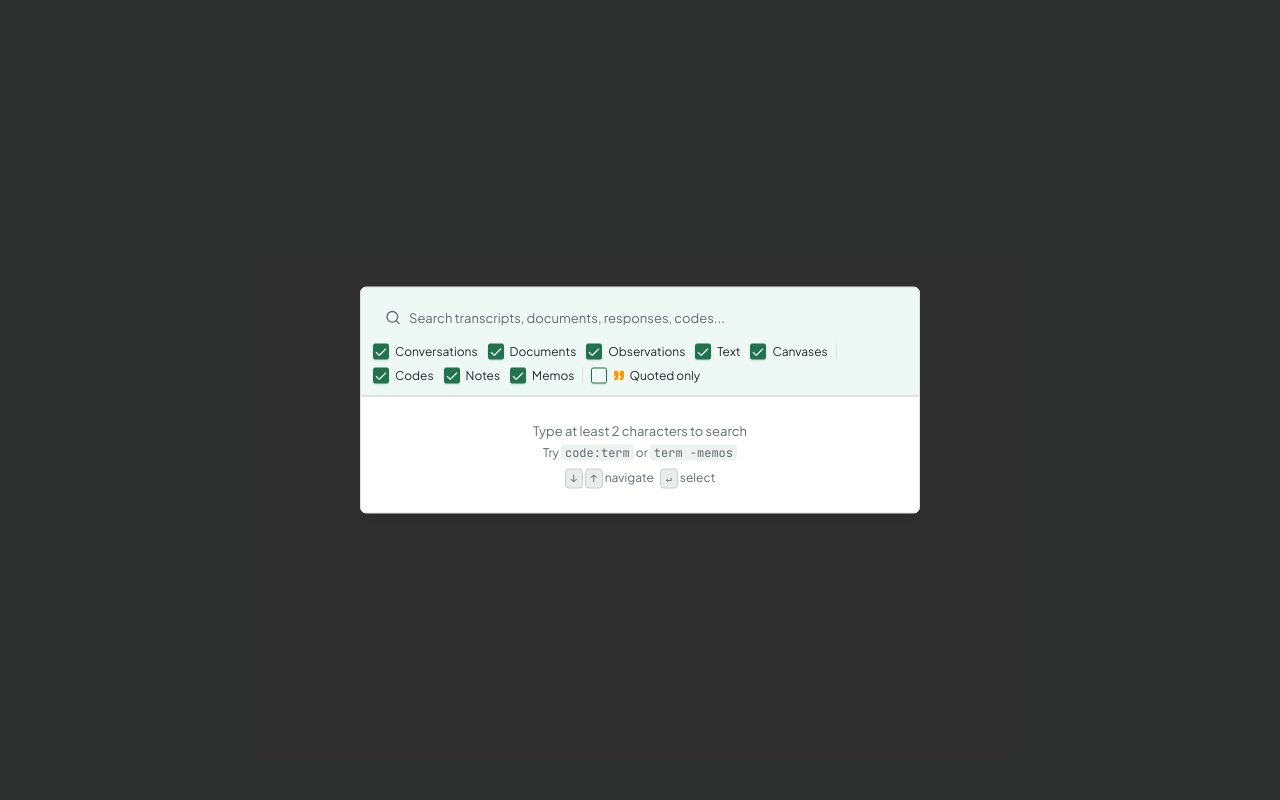
#963 Tier 3 — SearchPopover: a failed search is not an empty project › LOADING: says it is searching
In the dropdown: (640, 318) [373,300,907,336], type "pacing"
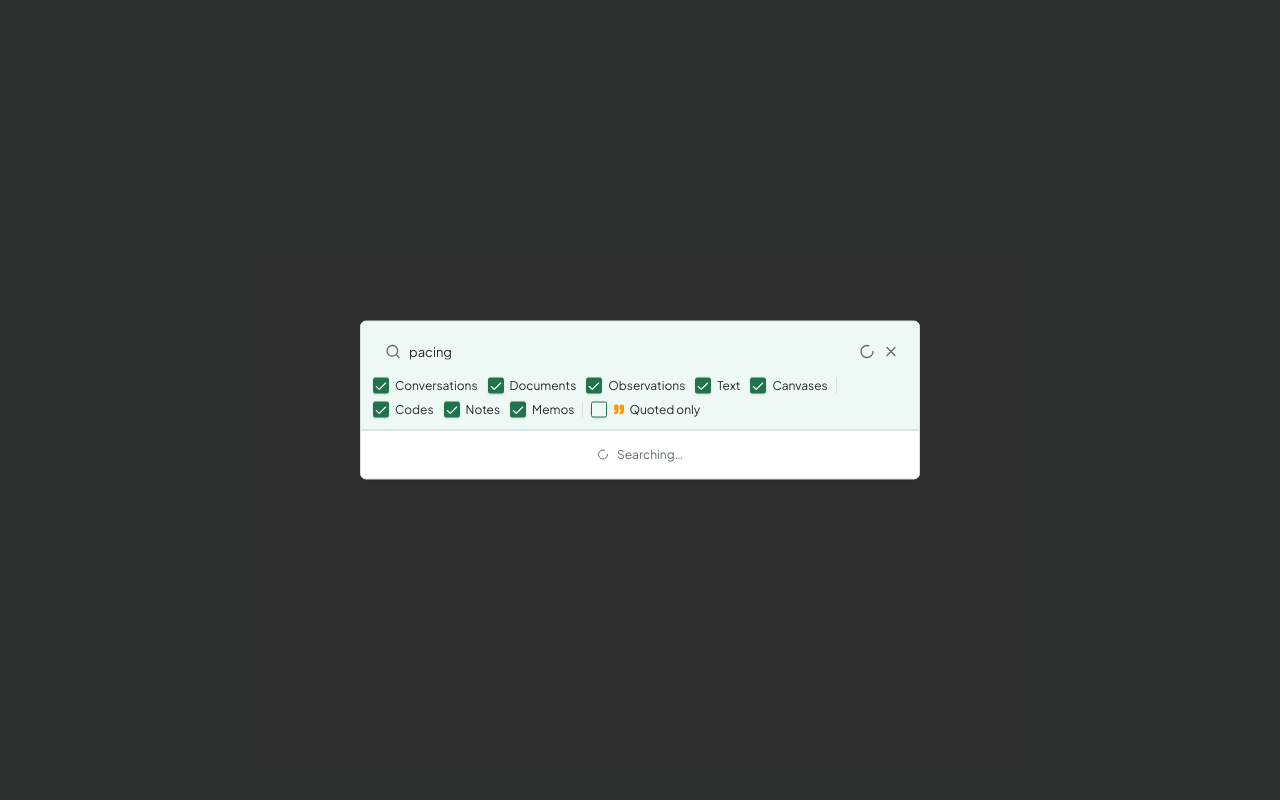
Check: the text "Searching…" is shown, box [597,446,683,462]
